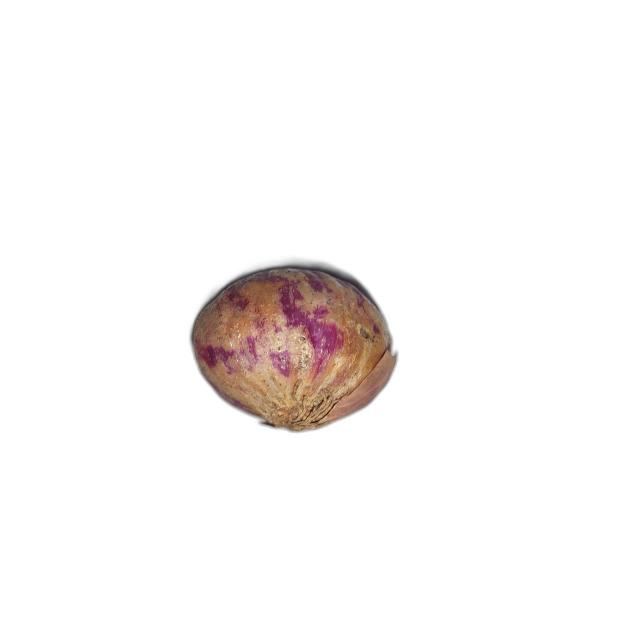onion: (189, 266, 399, 432)
